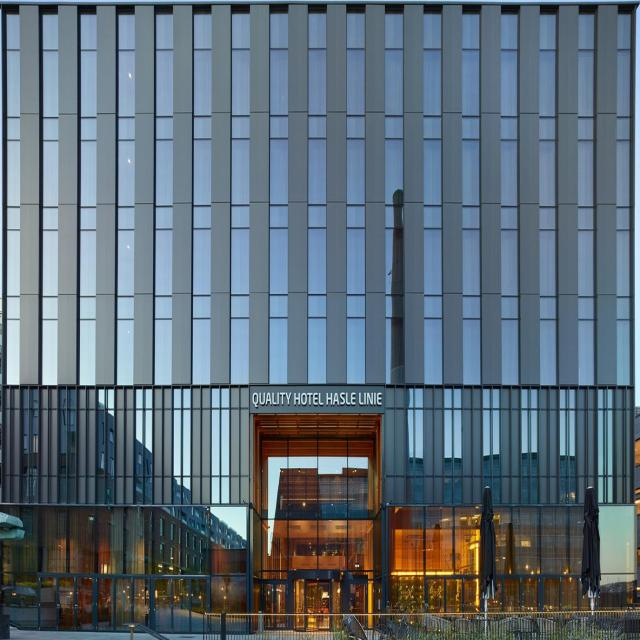Railing: (204, 609, 637, 639)
door: (39, 571, 207, 635), (426, 576, 592, 614), (261, 580, 289, 632), (304, 581, 333, 631), (348, 581, 370, 631)
wall: (0, 2, 640, 634)
windows: (1, 504, 248, 633), (386, 508, 637, 604), (259, 438, 371, 578), (387, 1, 403, 385), (41, 10, 57, 386), (80, 10, 96, 386), (116, 9, 132, 385), (156, 9, 172, 385), (272, 9, 288, 385), (310, 11, 326, 387), (349, 8, 365, 384), (501, 10, 517, 386), (540, 10, 556, 386), (577, 9, 593, 385), (4, 11, 20, 386), (192, 9, 208, 384), (231, 9, 247, 384), (426, 11, 442, 386), (465, 11, 481, 386), (617, 9, 633, 384), (483, 387, 502, 507), (60, 387, 79, 503), (136, 389, 155, 505), (172, 387, 191, 503), (21, 387, 40, 502), (211, 388, 230, 503), (444, 392, 463, 507), (522, 389, 541, 504), (560, 388, 579, 503), (407, 389, 425, 505), (599, 390, 617, 506), (97, 389, 115, 504)
